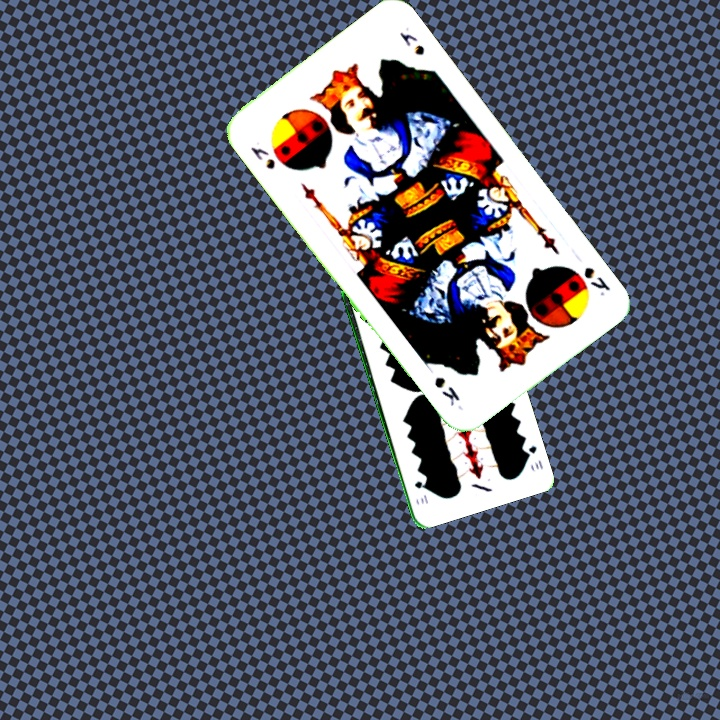G10: (520, 441, 545, 472)
SK: (580, 262, 613, 299), (246, 142, 278, 172)
